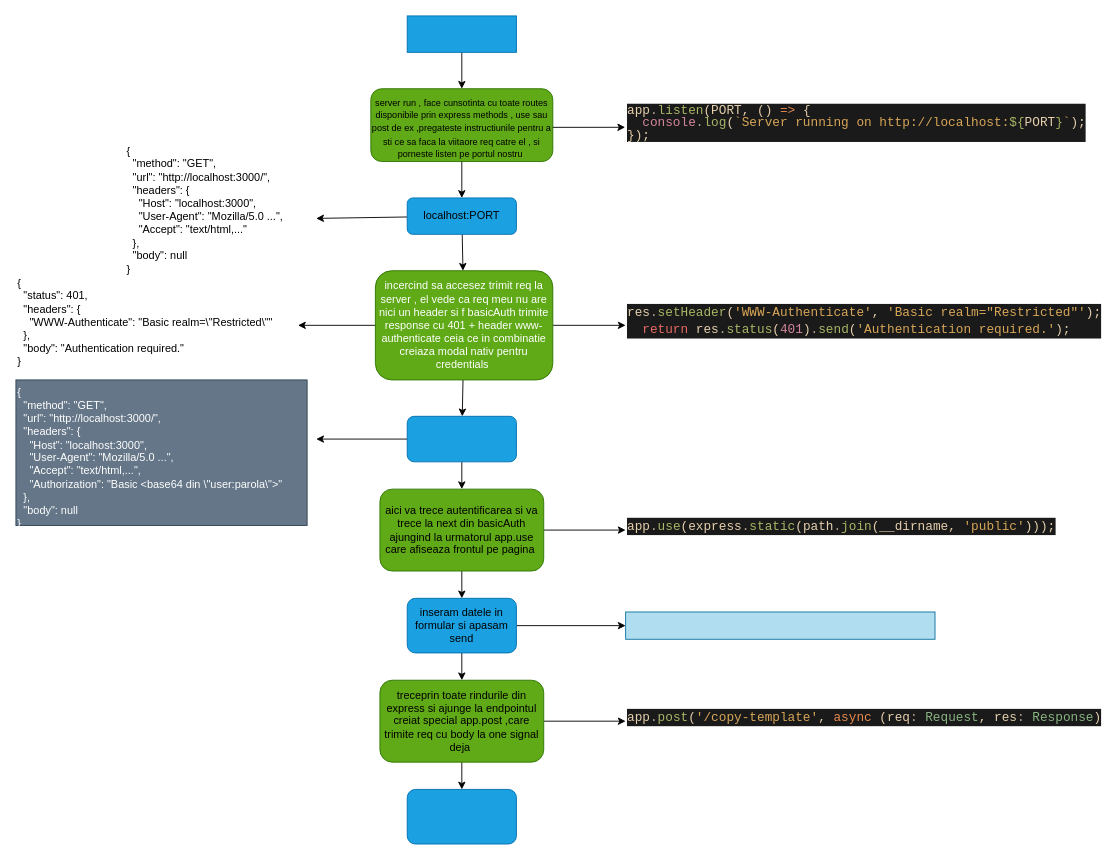
Some shapes in this 1117 by 860 pixel diagram are drawn without their labels. Here are the shapes that lost their labels. From the top down, the centre of each, then its label:
(x=461, y=33): npm start
(x=461, y=438): inseram datele si retrimitem alt req cu date pentru auth
(x=780, y=625): fetch('/copy-template', { method: 'POST', ... })
(x=461, y=816): send the result to front succes or err
